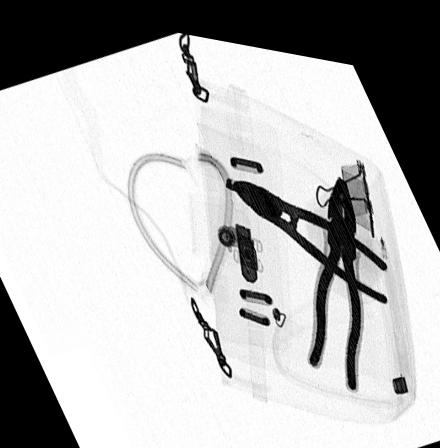Pliers: (232, 169, 389, 289), (305, 162, 364, 380)
